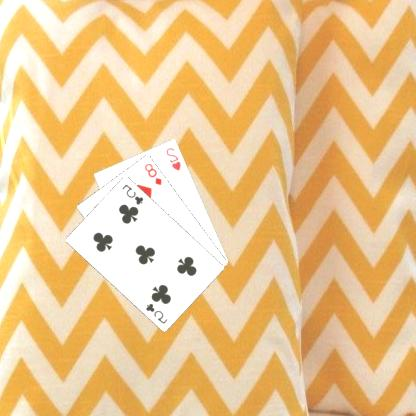2H: (164, 145, 184, 172)
5C: (144, 300, 170, 325), (121, 181, 146, 206)
8D: (144, 160, 165, 187)
